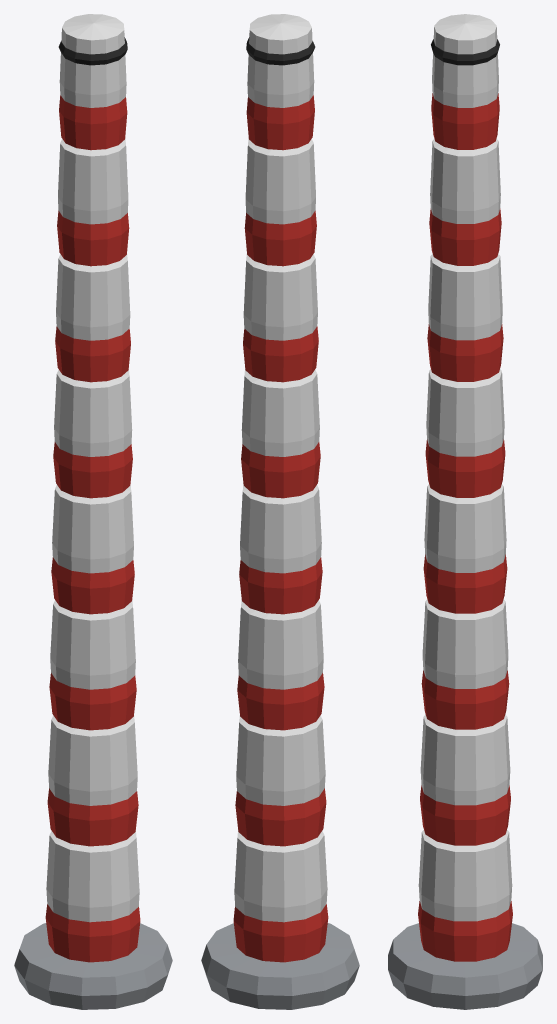
File: s-stack.glb
The picture shows the model from 3 angles, left to right: view 1: azimuth 30°, elevation 25°; view 2: azimuth 150°, elevation 25°; view 3: azimuth 270°, elevation 25°; orthographic projection.
Visible parts, largest first — view 1: p; view 2: p; view 3: p.
Part boxes in pixels (x1=…): p: x1=14, y1=14, x2=172, y2=1009; p: x1=201, y1=14, x2=359, y2=1009; p: x1=388, y1=14, x2=542, y2=1009.
Bounding box in the file's own units: 5 × 33.2 × 4.87.
